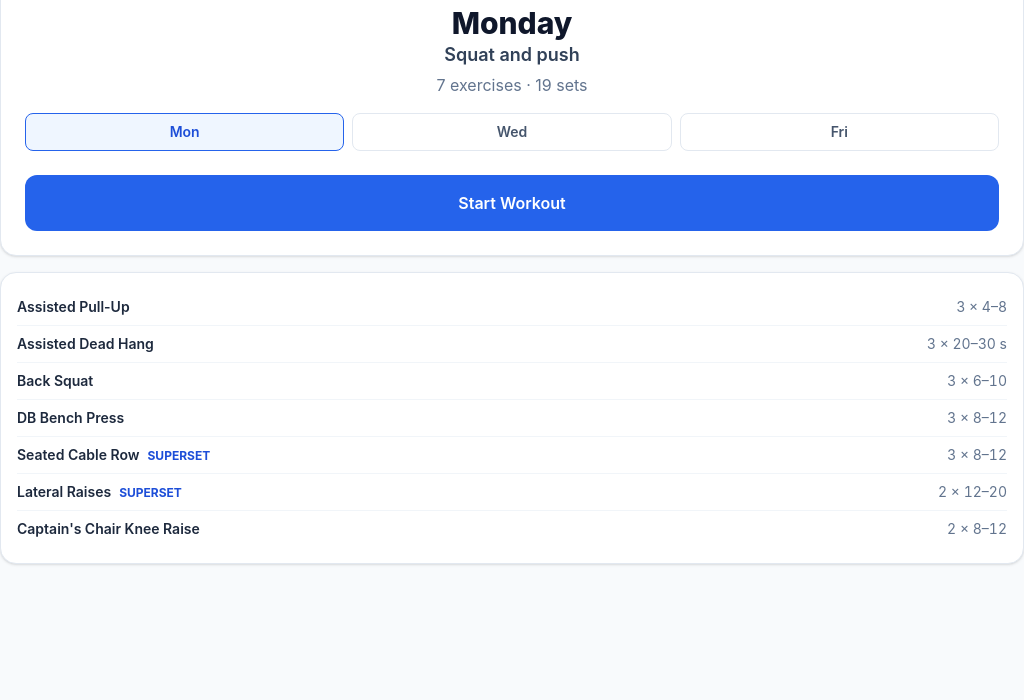
Test case: Strength in lb (S-006) › saves a first-use weight typed in lb as kg, and keeps it at 0.5 lb precision
Click the button "Start Workout".
click(512, 203)  # box [25,175,999,231]
(page scrolled)
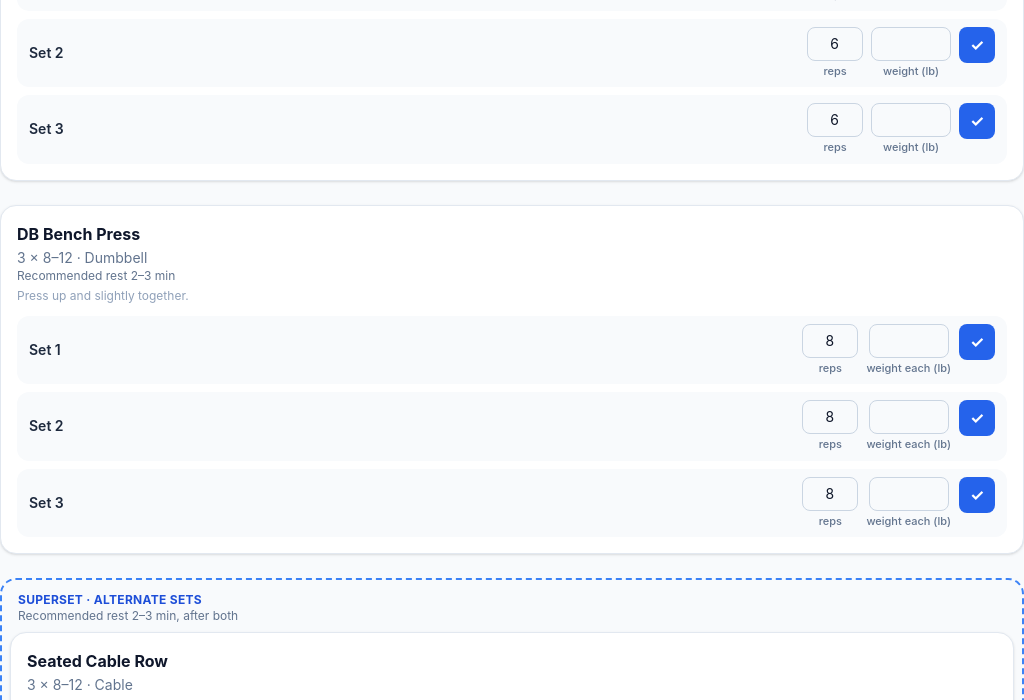
Now the text "weight each (lb)" is shown 3 times, box [866,360,951,376]; [866,436,951,452]; [866,512,951,529]
Type "22.5" into the number field named "Set 1 weight".
click(909, 340); type("22.5")  # box [869,324,949,358]
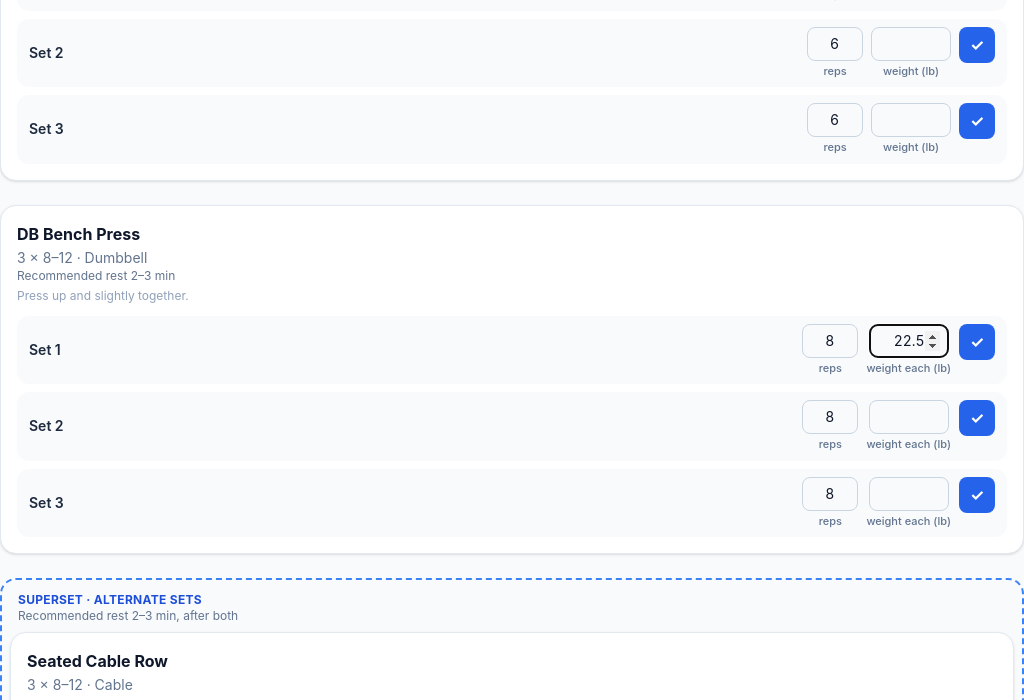
Click the button named "Complete set 1".
click(977, 342)  # box [959,324,995,360]
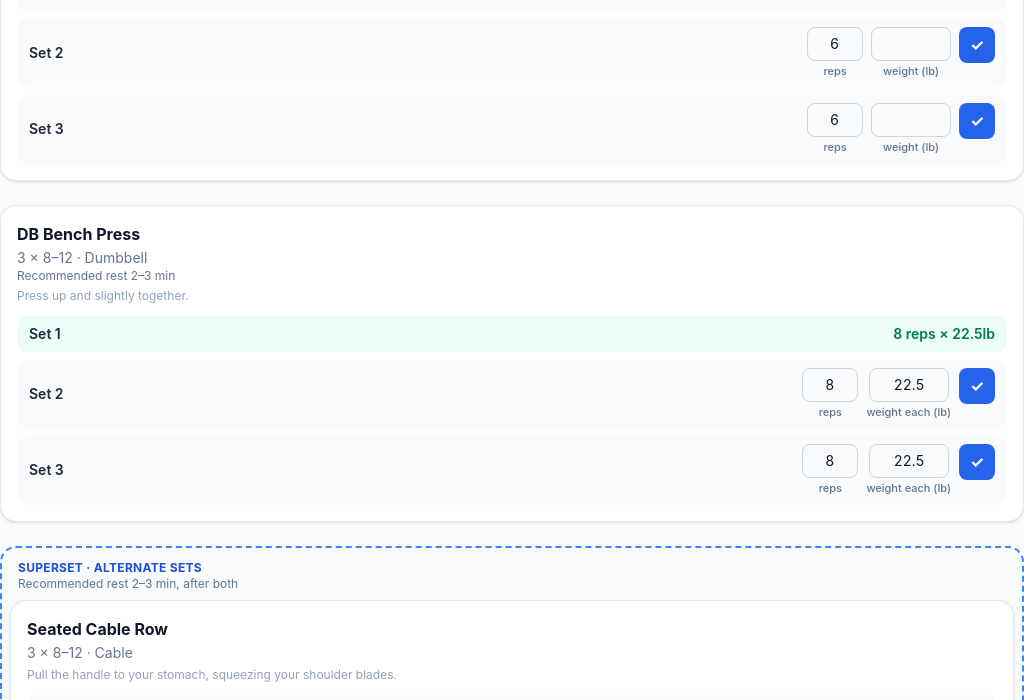
Now the number field named "Set 2 weight" holds "22.5", box [869,368,949,402]
